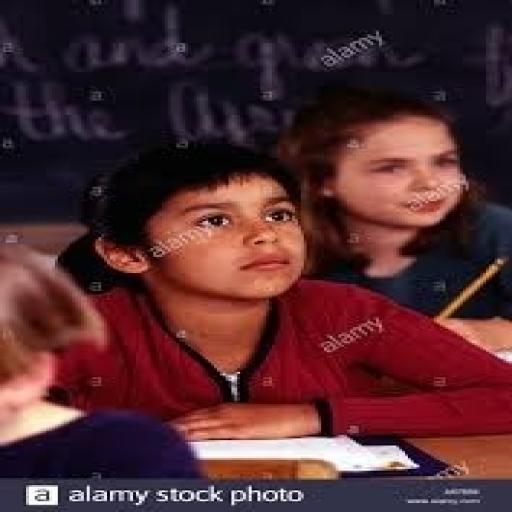sitting: (43, 138, 509, 442), (275, 90, 509, 363), (0, 241, 214, 481)
